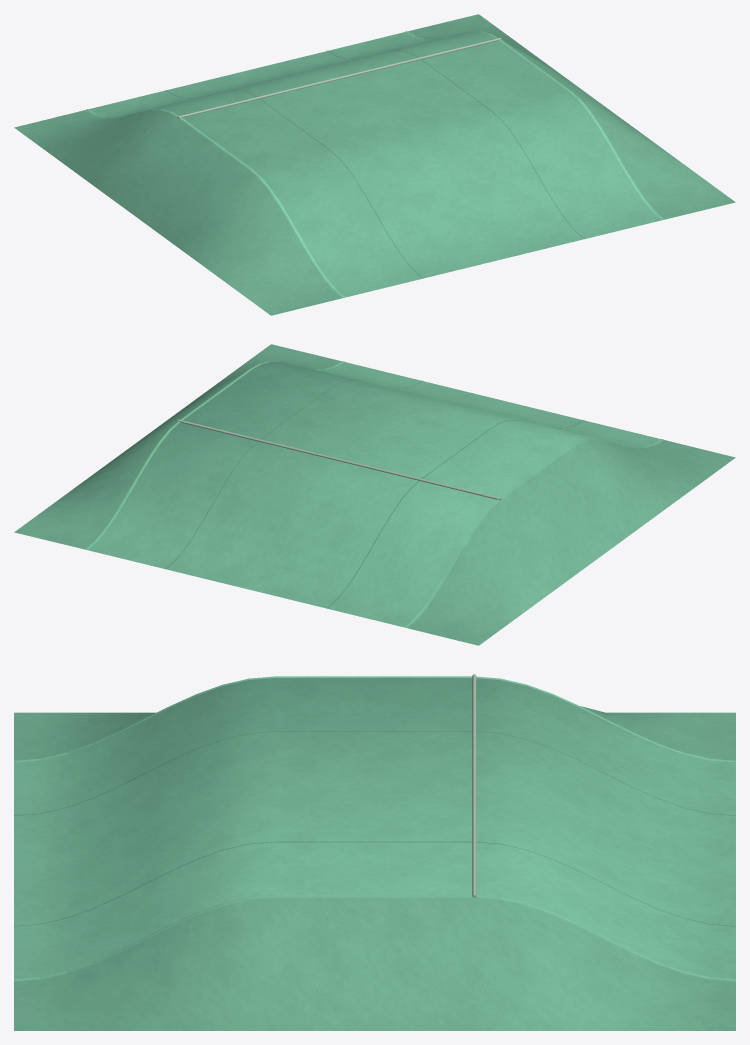
The model's file is lagoon-table.glb.
3 views of the same model, one above another, from view 1: azimuth 30°, elevation 25°; view 2: azimuth 150°, elevation 25°; view 3: azimuth 270°, elevation 25° (orthographic). The views are drawn at different scales.
Parts seen in each view (by area): view 1: lagoon-table; view 2: lagoon-table; view 3: lagoon-table.
Boxes of the visible parts, <box> form: lagoon-table: <box>14,14,735,315</box>; lagoon-table: <box>14,344,735,645</box>; lagoon-table: <box>14,674,735,1030</box>.
Size of the model in its own units: 14.4 by 1.84 by 13.8.
Materials: 2 (1 with a texture image).
